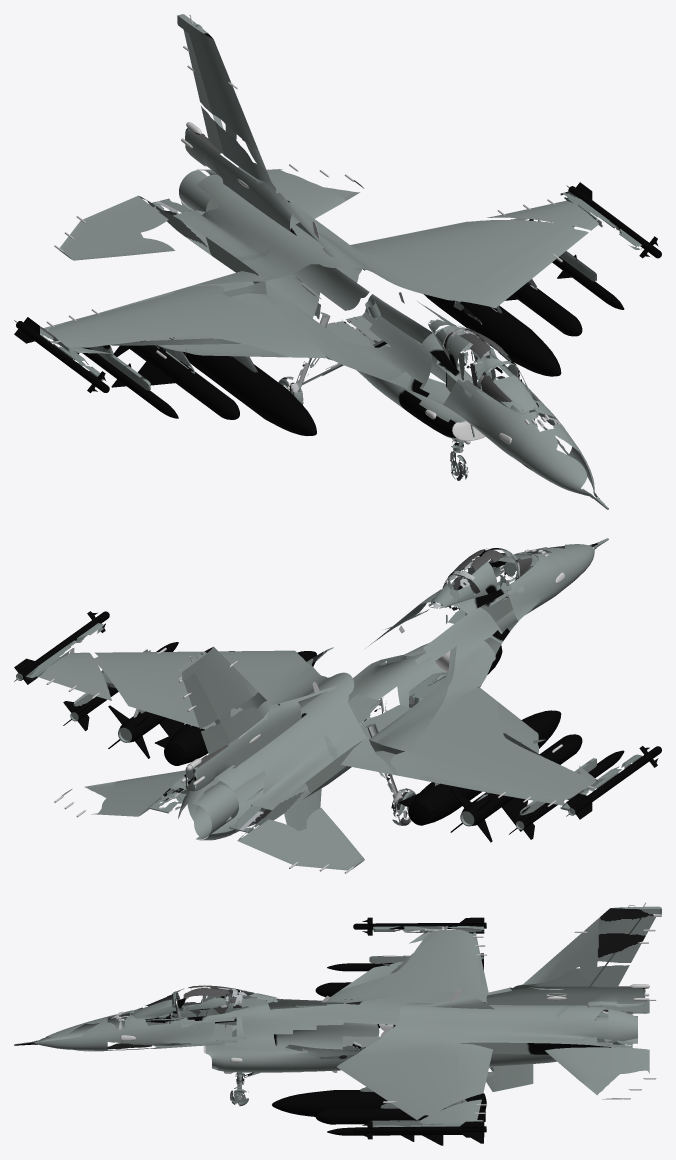
The model's file is fighterBomber01.obj.
The picture shows the model from 3 angles, top to bottom: view 1: azimuth 30°, elevation 25°; view 2: azimuth 150°, elevation 25°; view 3: azimuth 270°, elevation 25°; orthographic projection. The views are drawn at different scales.
Parts seen in each view (by area): view 1: Langas_Fuselage.001; view 2: Langas_Fuselage.001; view 3: Langas_Fuselage.001.
Boxes of the visible parts, x1,y1,x2,y2 form: Langas_Fuselage.001: [14, 14, 661, 509]; Langas_Fuselage.001: [14, 538, 661, 873]; Langas_Fuselage.001: [14, 902, 661, 1145].
Size of the model in its own units: 1.73 by 0.7837 by 2.26.
